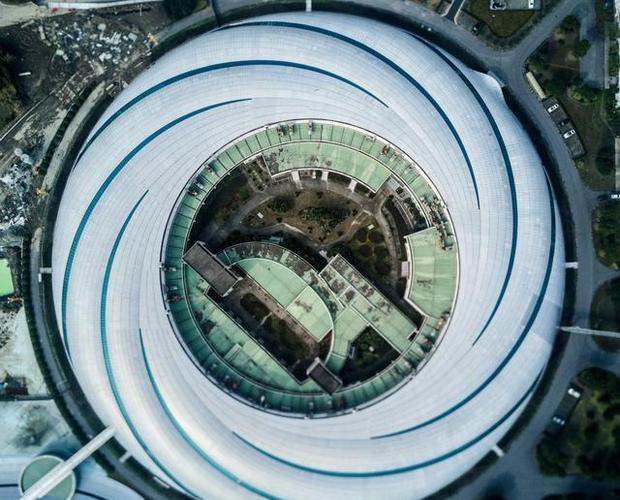buildings: (49, 50, 577, 456)
